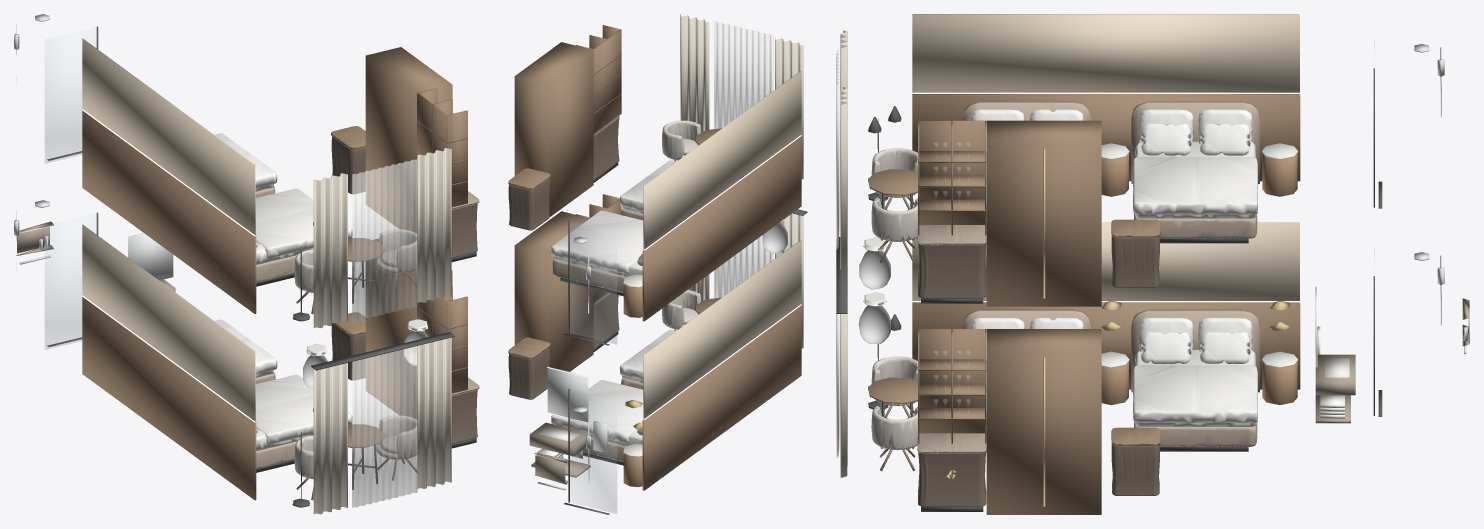
File: 215_doble.glb
3 renders of one model, left to right at view 1: azimuth 30°, elevation 25°; view 2: azimuth 150°, elevation 25°; view 3: azimuth 270°, elevation 25°, orthographic. The views are drawn at different scales.
Parts seen in each view (by area): view 1: 215_doble_HLF-MOB MELAMINA SIKUANI, 215_doble_HLF-REF 07 PAPEL COLGADURA LISMORE 1097.28 VESCOM, 215_doble_HLF-MOB CORTINA LINO, 215_doble_HLF-MOB CORTINA VELO, 215_doble_HLF-VIDRIO TEMPLADO DUCHA 10mm, 215_doble_HLF-MOB LENCERIA BLANCA, 215_doble_HLF-MOB QUILT OSCURO, 215_doble_HLF-MOB TEJIDO AVENA, 215_doble_HLF-MOB ACERO PINTURA ELECTROSTATICA NEGRO, 215_doble_HLF-MOB TAPIZ TRAILBLAZER 32 MARBLE, 215_doble_HLF-REF 11 ESPEJO FLOTADO 5mm, 215_doble_HLF-MOB MARMOL (+3 smaller); view 2: 215_doble_HLF-MOB MELAMINA SIKUANI, 215_doble_HLF-REF 07 PAPEL COLGADURA LISMORE 1097.28 VESCOM, 215_doble_HLF-VIDRIO TEMPLADO DUCHA 10mm, 215_doble_HLF-MOB LENCERIA BLANCA, 215_doble_HLF-MOB CORTINA VELO, 215_doble_HLF-MOB CORTINA LINO, 215_doble_HLF-MOB QUILT OSCURO, 215_doble_HLF-MOB TEJIDO AVENA, 215_doble_HLF-MOB MARMOL, 215_doble_HLF-MOB TAPIZ TRAILBLAZER 32 MARBLE, 215_doble_HLF-REF 11 ESPEJO FLOTADO 5mm, 215_doble_HLF-MOB ACERO PINTURA ELECTROSTATICA NEGRO (+5 smaller); view 3: 215_doble_HLF-MOB MELAMINA SIKUANI, 215_doble_HLF-REF 07 PAPEL COLGADURA LISMORE 1097.28 VESCOM, 215_doble_HLF-MOB LENCERIA BLANCA, 215_doble_HLF-MOB QUILT OSCURO, 215_doble_HLF-MOB TAPIZ TRAILBLAZER 32 MARBLE, 215_doble_HLF-MOB TEJIDO AVENA, 215_doble_HLF-MOB MARMOL, 215_doble_HLF-MOB CUERO CAMEL, 215_doble_HLF-MOB ACERO PINTURA ELECTROSTATICA NEGRO, 215_doble_HLF-MOB CORTINA LINO, 215_doble_HLF-MOB PIEDRA CLARA, 215_doble_default (+4 smaller).
Part boxes in pixels (x1,y1,x2,y2): 215_doble_HLF-MOB MELAMINA SIKUANI: (82, 47, 467, 500); 215_doble_HLF-REF 07 PAPEL COLGADURA LISMORE 1097.28 VESCOM: (82, 38, 255, 421); 215_doble_HLF-MOB CORTINA LINO: (313, 148, 451, 514); 215_doble_HLF-MOB CORTINA VELO: (352, 159, 417, 507); 215_doble_HLF-VIDRIO TEMPLADO DUCHA 10mm: (45, 27, 96, 349); 215_doble_HLF-MOB LENCERIA BLANCA: (39, 133, 352, 451); 215_doble_HLF-MOB QUILT OSCURO: (331, 136, 477, 443); 215_doble_HLF-MOB TEJIDO AVENA: (294, 229, 417, 479); 215_doble_HLF-MOB ACERO PINTURA ELECTROSTATICA NEGRO: (47, 26, 476, 507); 215_doble_HLF-MOB TAPIZ TRAILBLAZER 32 MARBLE: (255, 186, 296, 468); 215_doble_HLF-REF 11 ESPEJO FLOTADO 5mm: (128, 233, 173, 280); 215_doble_HLF-MOB MARMOL: (15, 191, 479, 395); 215_doble_HLF-MOB MELAMINA SIKUANI: (508, 25, 801, 490); 215_doble_HLF-REF 07 PAPEL COLGADURA LISMORE 1097.28 VESCOM: (643, 71, 801, 418); 215_doble_HLF-VIDRIO TEMPLADO DUCHA 10mm: (570, 220, 616, 513); 215_doble_HLF-MOB LENCERIA BLANCA: (537, 160, 676, 459); 215_doble_HLF-MOB CORTINA VELO: (714, 21, 773, 298); 215_doble_HLF-MOB CORTINA LINO: (680, 14, 803, 348); 215_doble_HLF-MOB QUILT OSCURO: (508, 117, 619, 399); 215_doble_HLF-MOB TEJIDO AVENA: (662, 120, 701, 329); 215_doble_HLF-MOB MARMOL: (529, 115, 619, 484); 215_doble_HLF-MOB TAPIZ TRAILBLAZER 32 MARBLE: (552, 209, 643, 461); 215_doble_HLF-REF 11 ESPEJO FLOTADO 5mm: (547, 366, 588, 422); 215_doble_HLF-MOB ACERO PINTURA ELECTROSTATICA NEGRO: (560, 162, 807, 514); 215_doble_HLF-MOB MELAMINA SIKUANI: (868, 94, 1300, 514); 215_doble_HLF-REF 07 PAPEL COLGADURA LISMORE 1097.28 VESCOM: (912, 14, 1299, 300); 215_doble_HLF-MOB LENCERIA BLANCA: (971, 109, 1467, 426); 215_doble_HLF-MOB QUILT OSCURO: (918, 235, 1160, 506); 215_doble_HLF-MOB TAPIZ TRAILBLAZER 32 MARBLE: (962, 101, 1259, 446); 215_doble_HLF-MOB TEJIDO AVENA: (871, 148, 919, 450); 215_doble_HLF-MOB MARMOL: (917, 225, 1469, 453); 215_doble_HLF-MOB CUERO CAMEL: (1101, 153, 1297, 405); 215_doble_HLF-MOB ACERO PINTURA ELECTROSTATICA NEGRO: (836, 68, 1382, 511); 215_doble_HLF-MOB CORTINA LINO: (840, 30, 847, 477); 215_doble_HLF-MOB PIEDRA CLARA: (1101, 143, 1349, 377); 215_doble_default: (858, 250, 890, 343).
Size of the model in its own units: 3.98 by 5.41 by 8.27.
